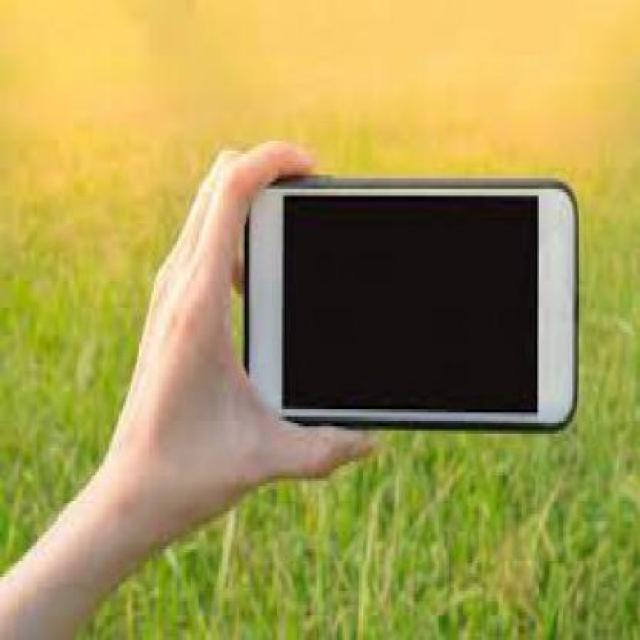mobile: (242, 178, 580, 428)
